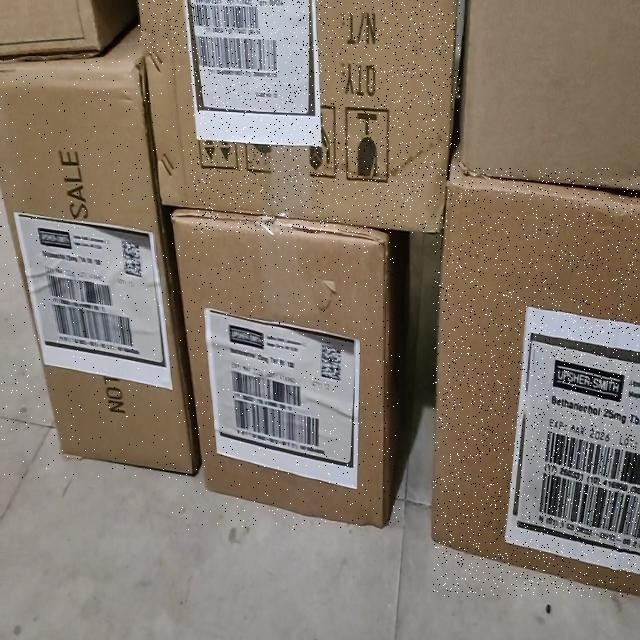BoxFace: (433, 168, 639, 597), (0, 53, 191, 478), (138, 0, 460, 233), (170, 206, 400, 530)
